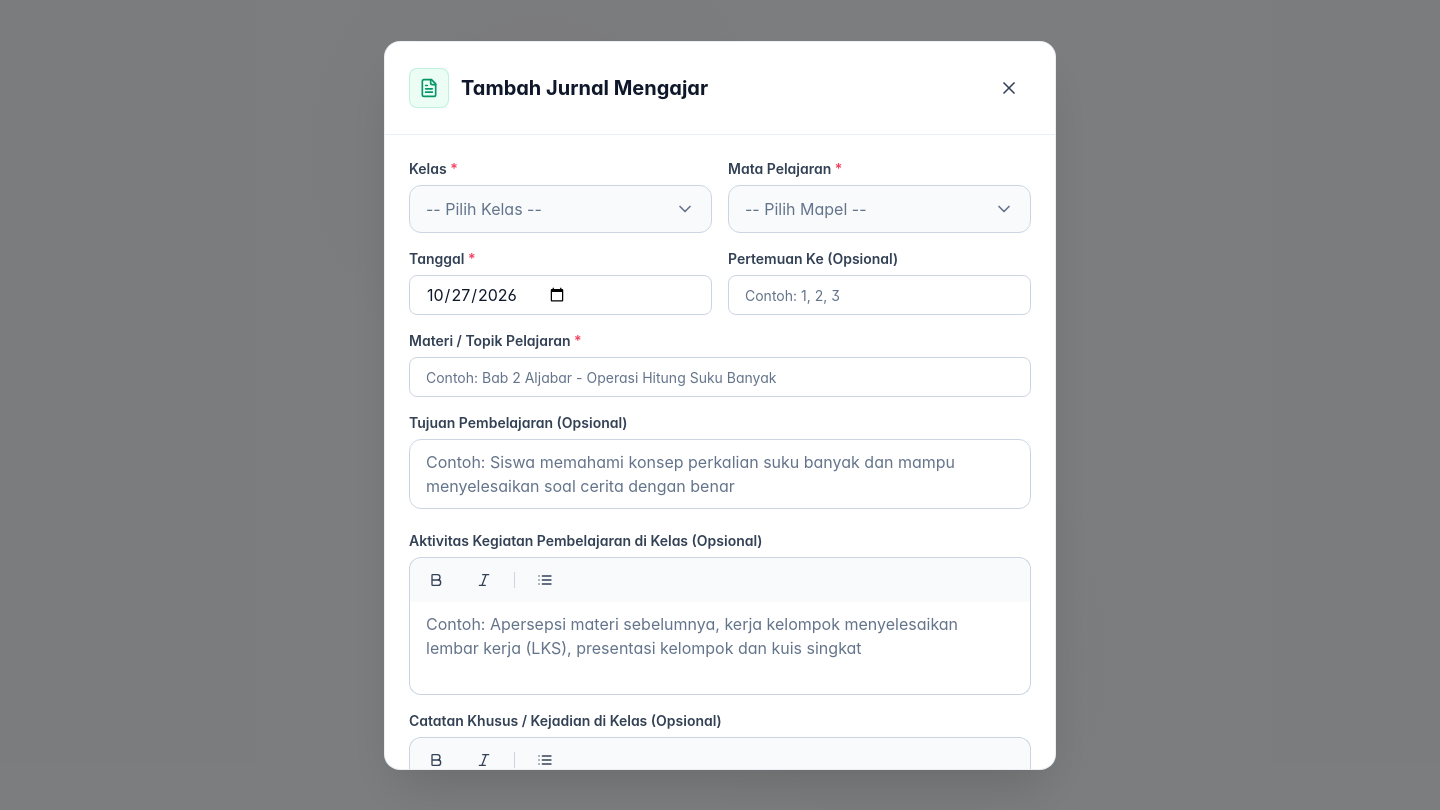
Scenario: JournalForm Validation › shows error if date format is invalid
The image size is (1440, 810).
# Fill Class select via CustomDropdown
Click the button "-- Pilih Kelas --" at (484, 208), box top-left (409, 184), bottom-right (712, 232)
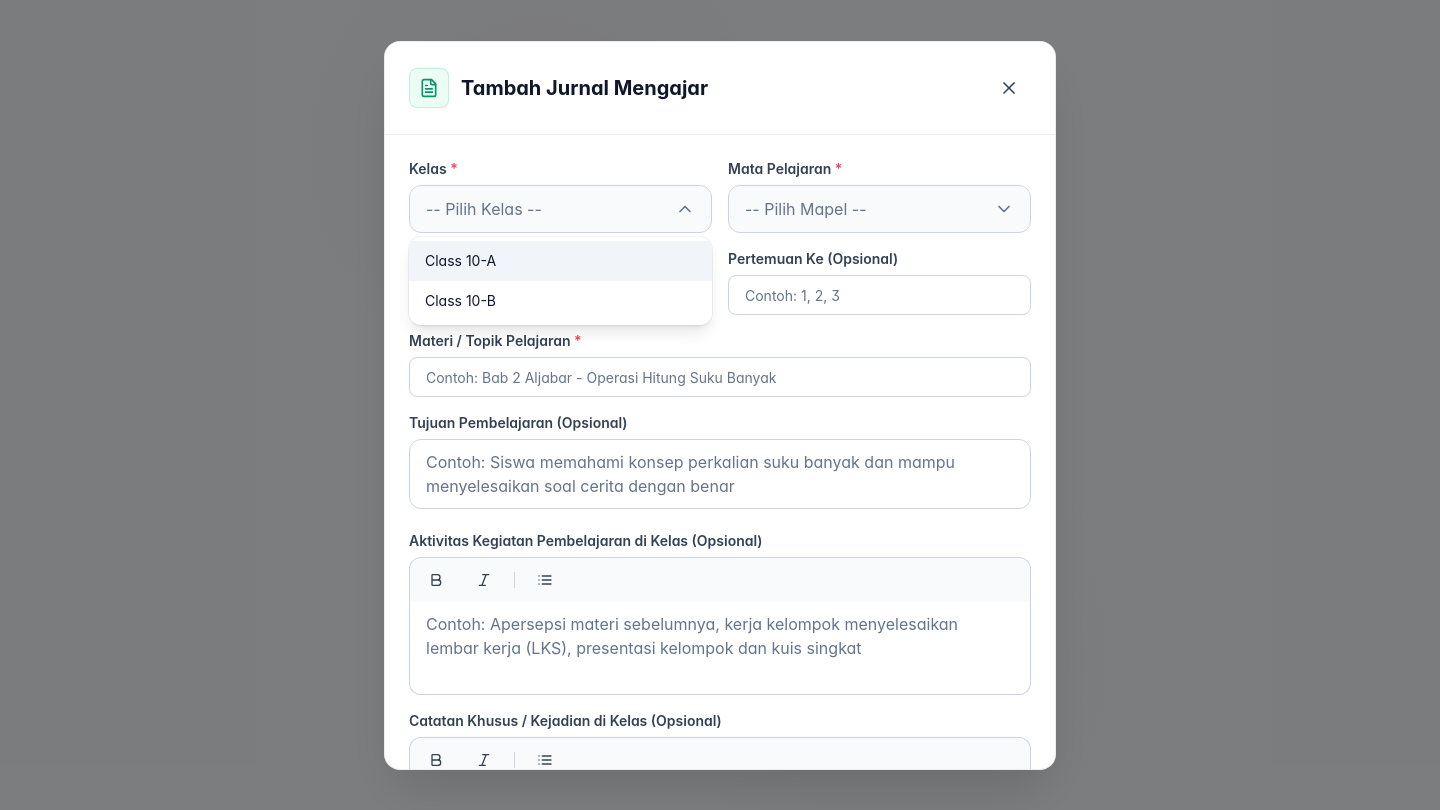
Click the option "Class 10-A" at (461, 260), box top-left (409, 240), bottom-right (712, 280)
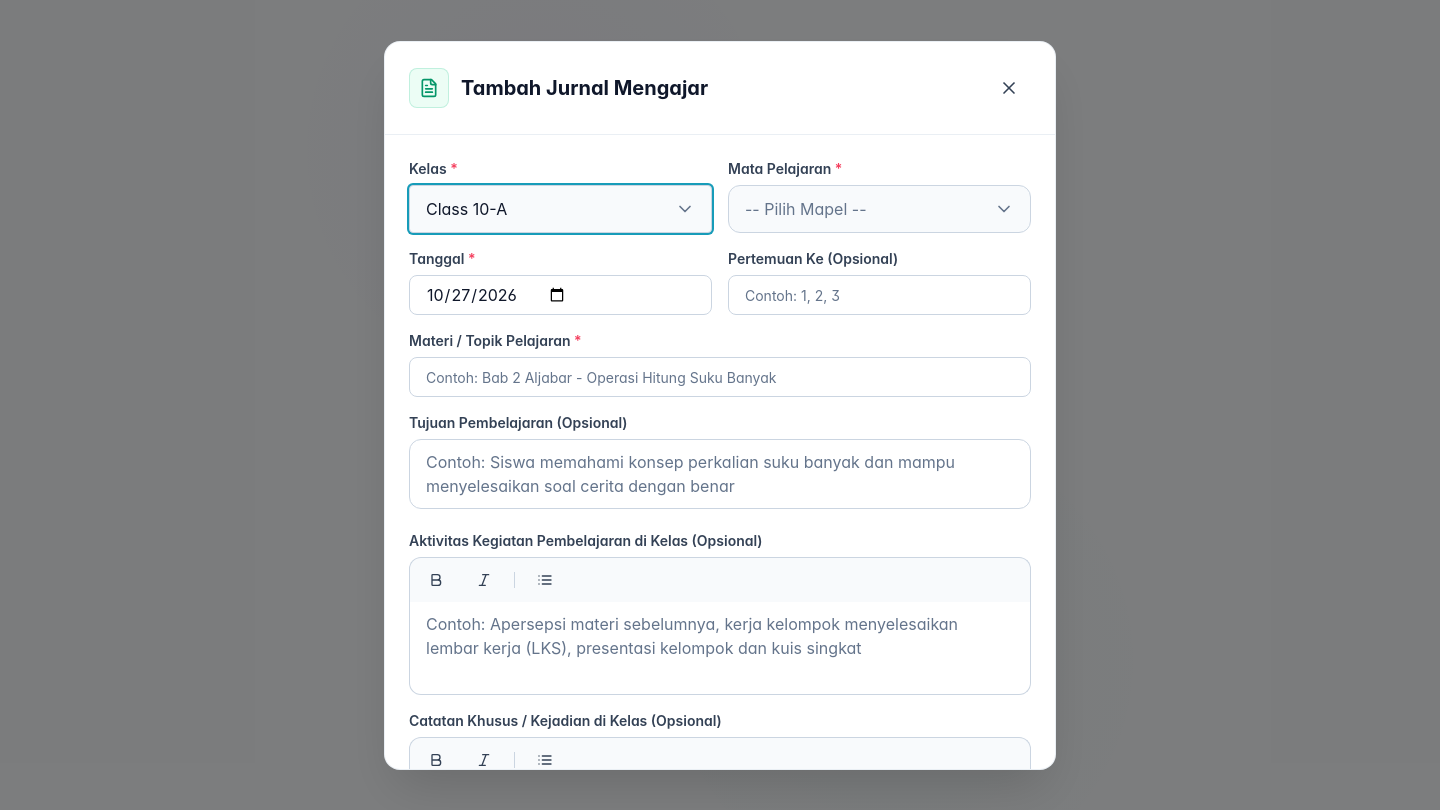
# Fill Subject via CustomDropdown
Click the button "-- Pilih Mapel --" at (806, 208), box top-left (728, 184), bottom-right (1031, 232)
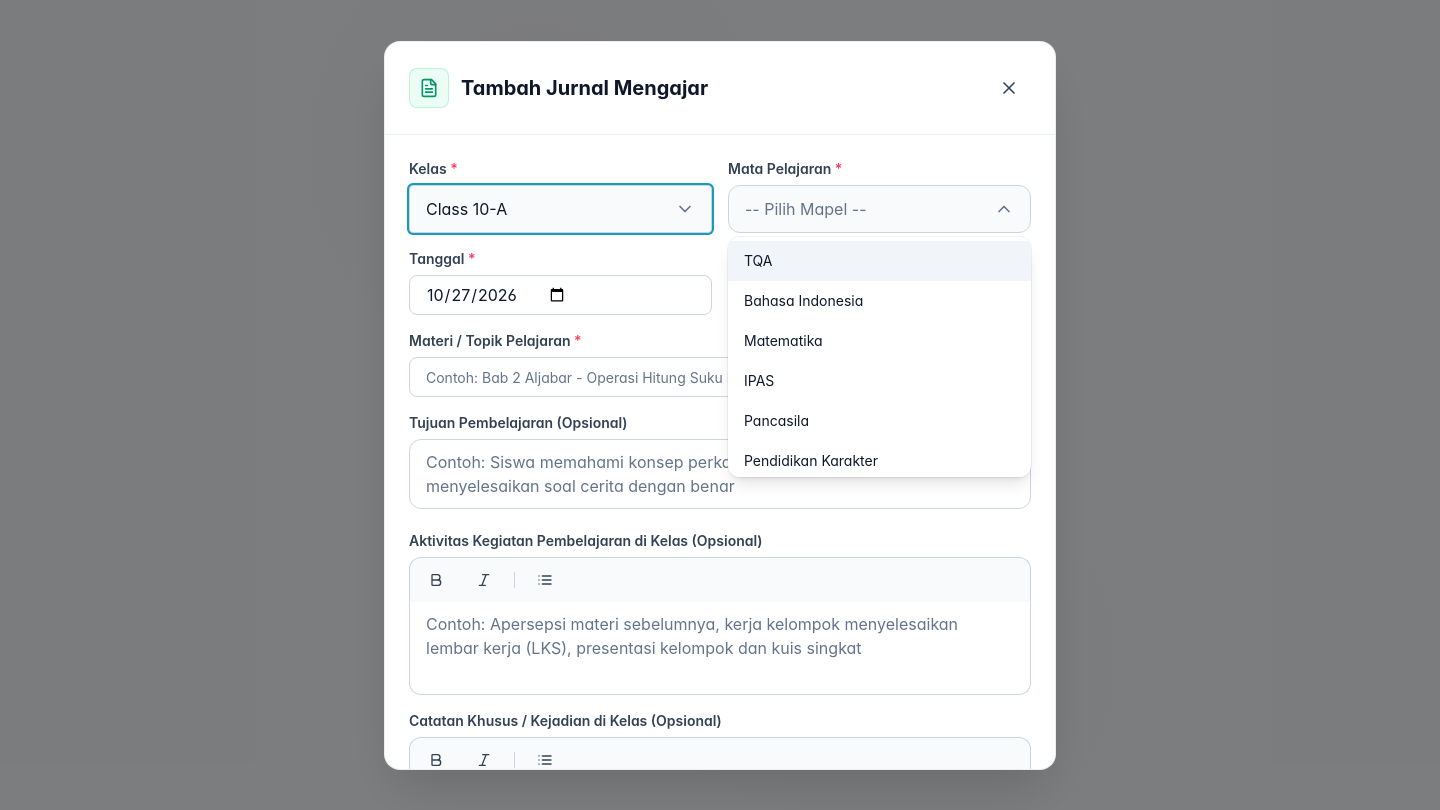
Click the option "Matematika" at (783, 340), box top-left (744, 332), bottom-right (823, 348)
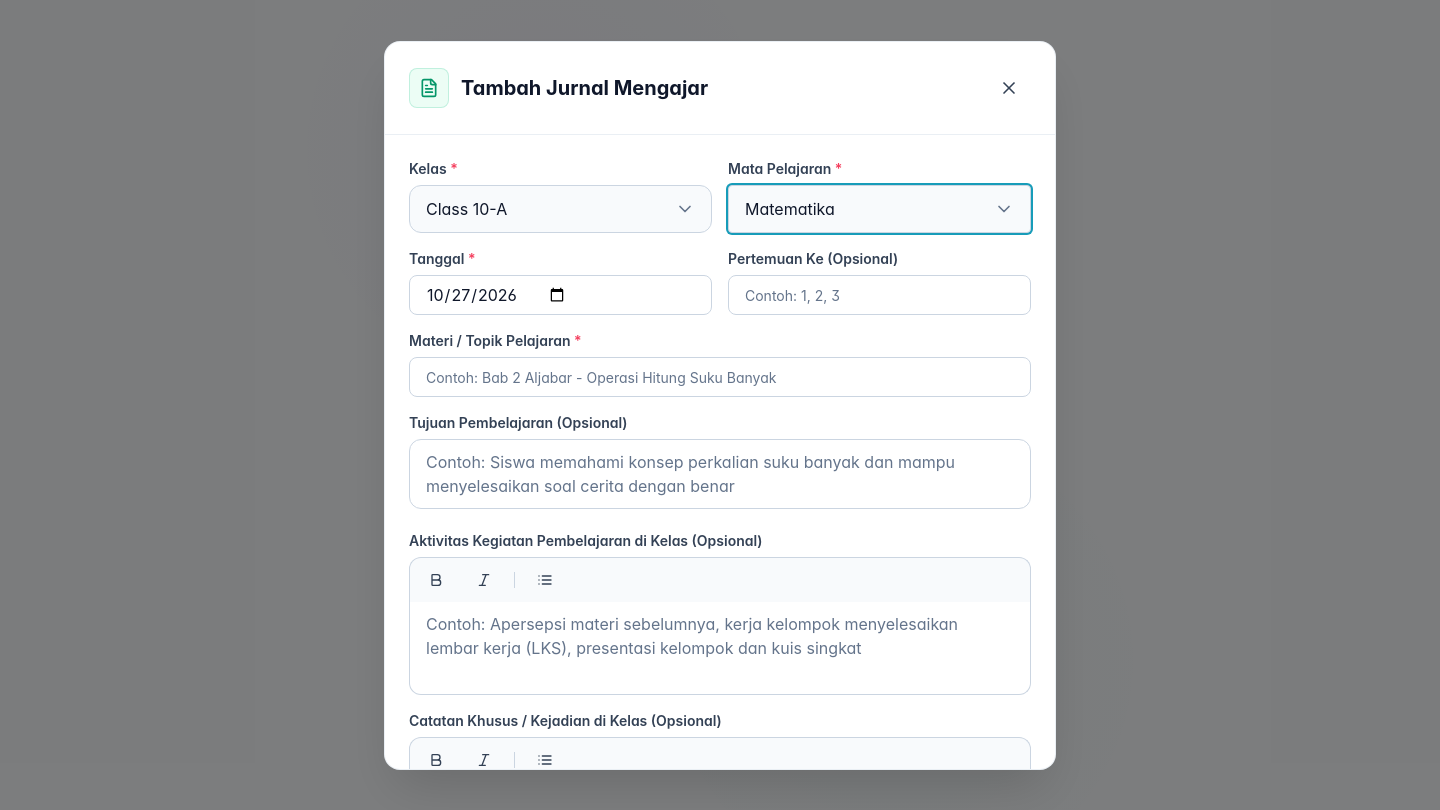
Type "Sel Tumbuhan" into the field named "topic" at (720, 376), box top-left (409, 356), bottom-right (1031, 396)
# Invalid date input
Type "invalid-date" into the date field named "date" at (560, 294), box top-left (409, 274), bottom-right (712, 314)
(page scrolled)
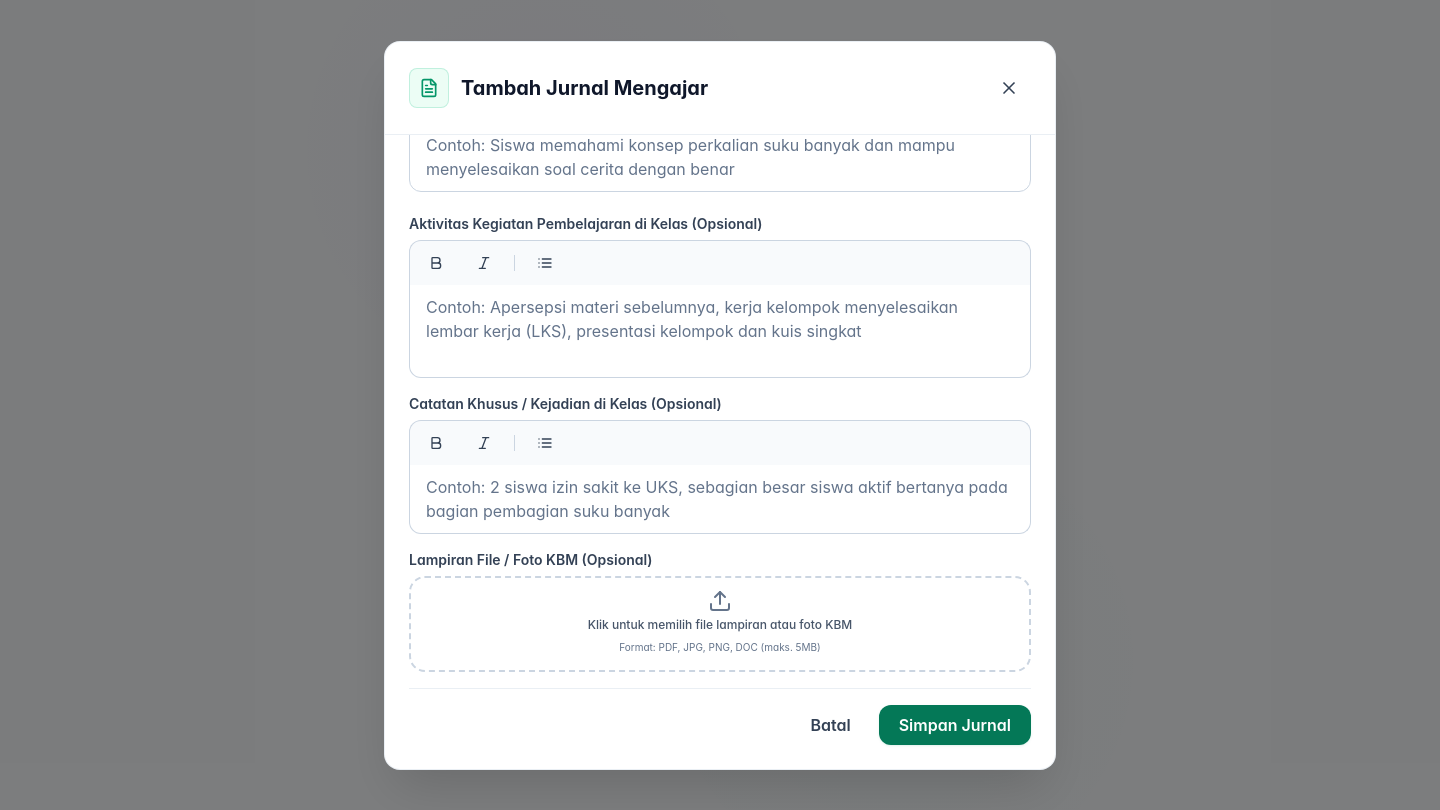
Click the button "Simpan Jurnal" at (955, 724), box top-left (879, 704), bottom-right (1031, 744)
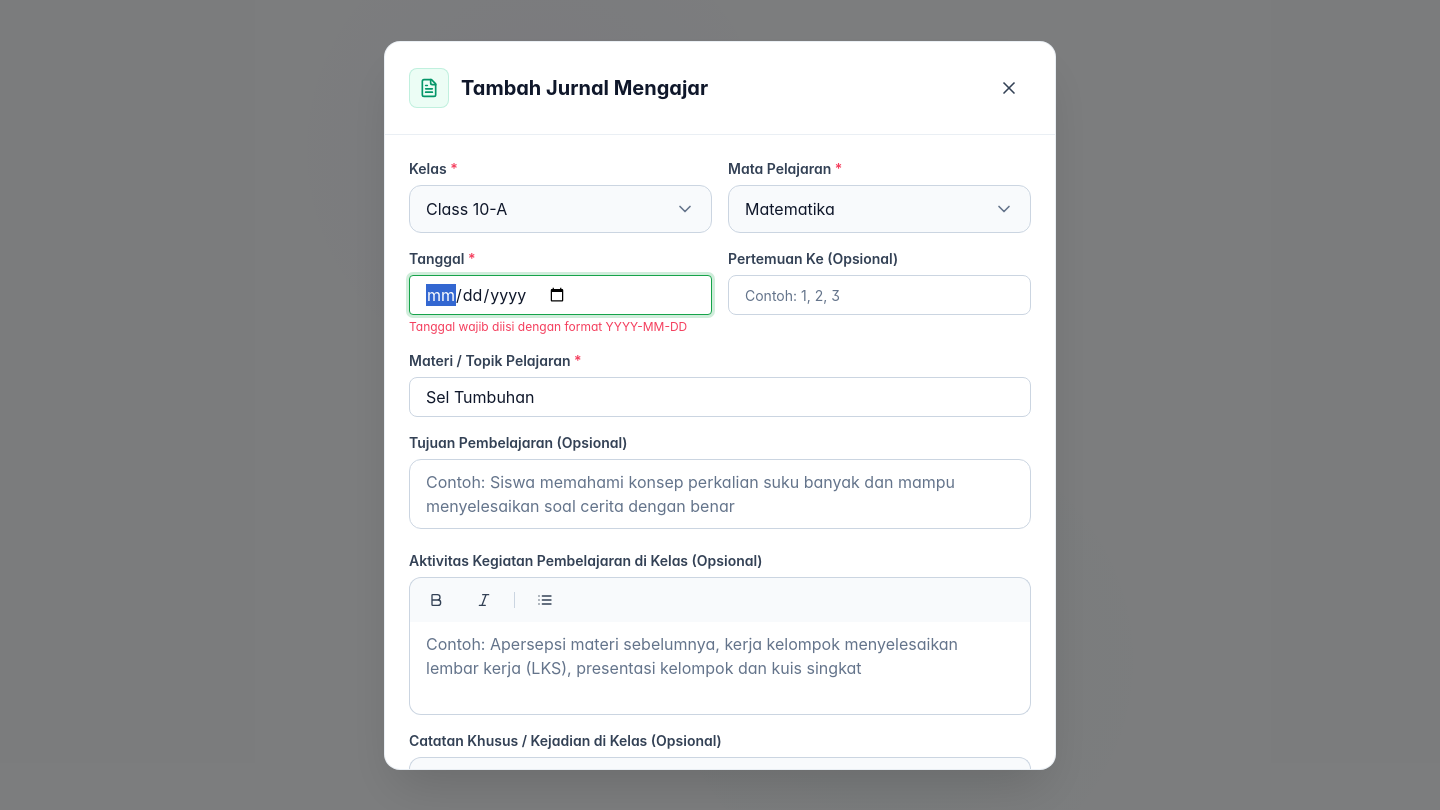
Check: the text "Tanggal wajib diisi dengan format YYYY-MM-DD" is shown, box top-left (409, 318), bottom-right (712, 334)
